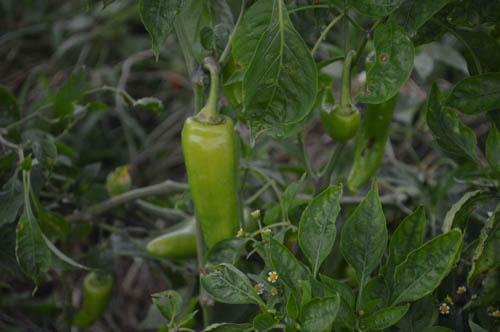ChiliPepper: (185, 117, 239, 244), (350, 91, 397, 193), (69, 275, 111, 326), (321, 90, 358, 140), (146, 233, 201, 261)
